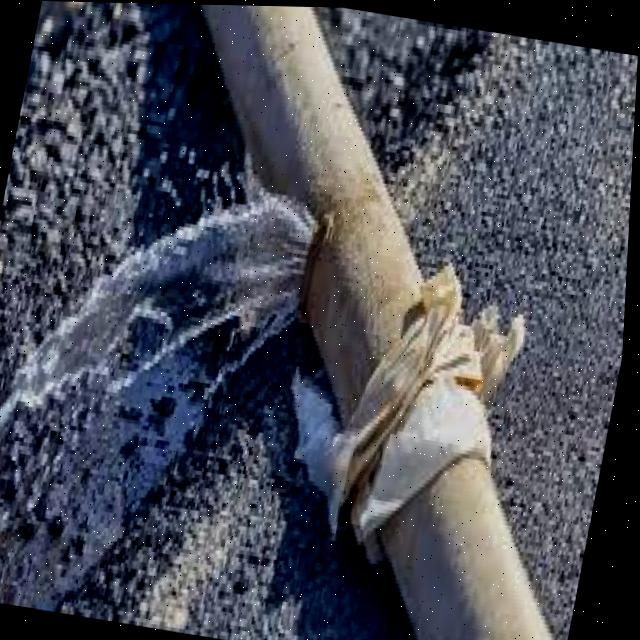corrosion: (199, 99, 419, 398)
